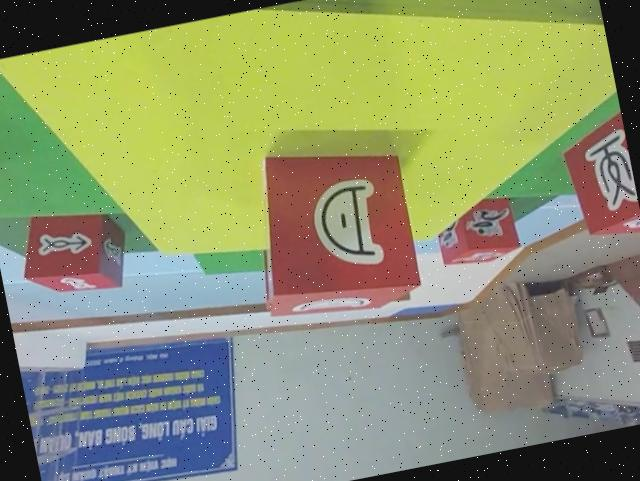R1: (428, 189, 525, 274)
R2 Fake: (553, 100, 640, 250)
R2 Real: (237, 129, 433, 333), (10, 197, 135, 307)
